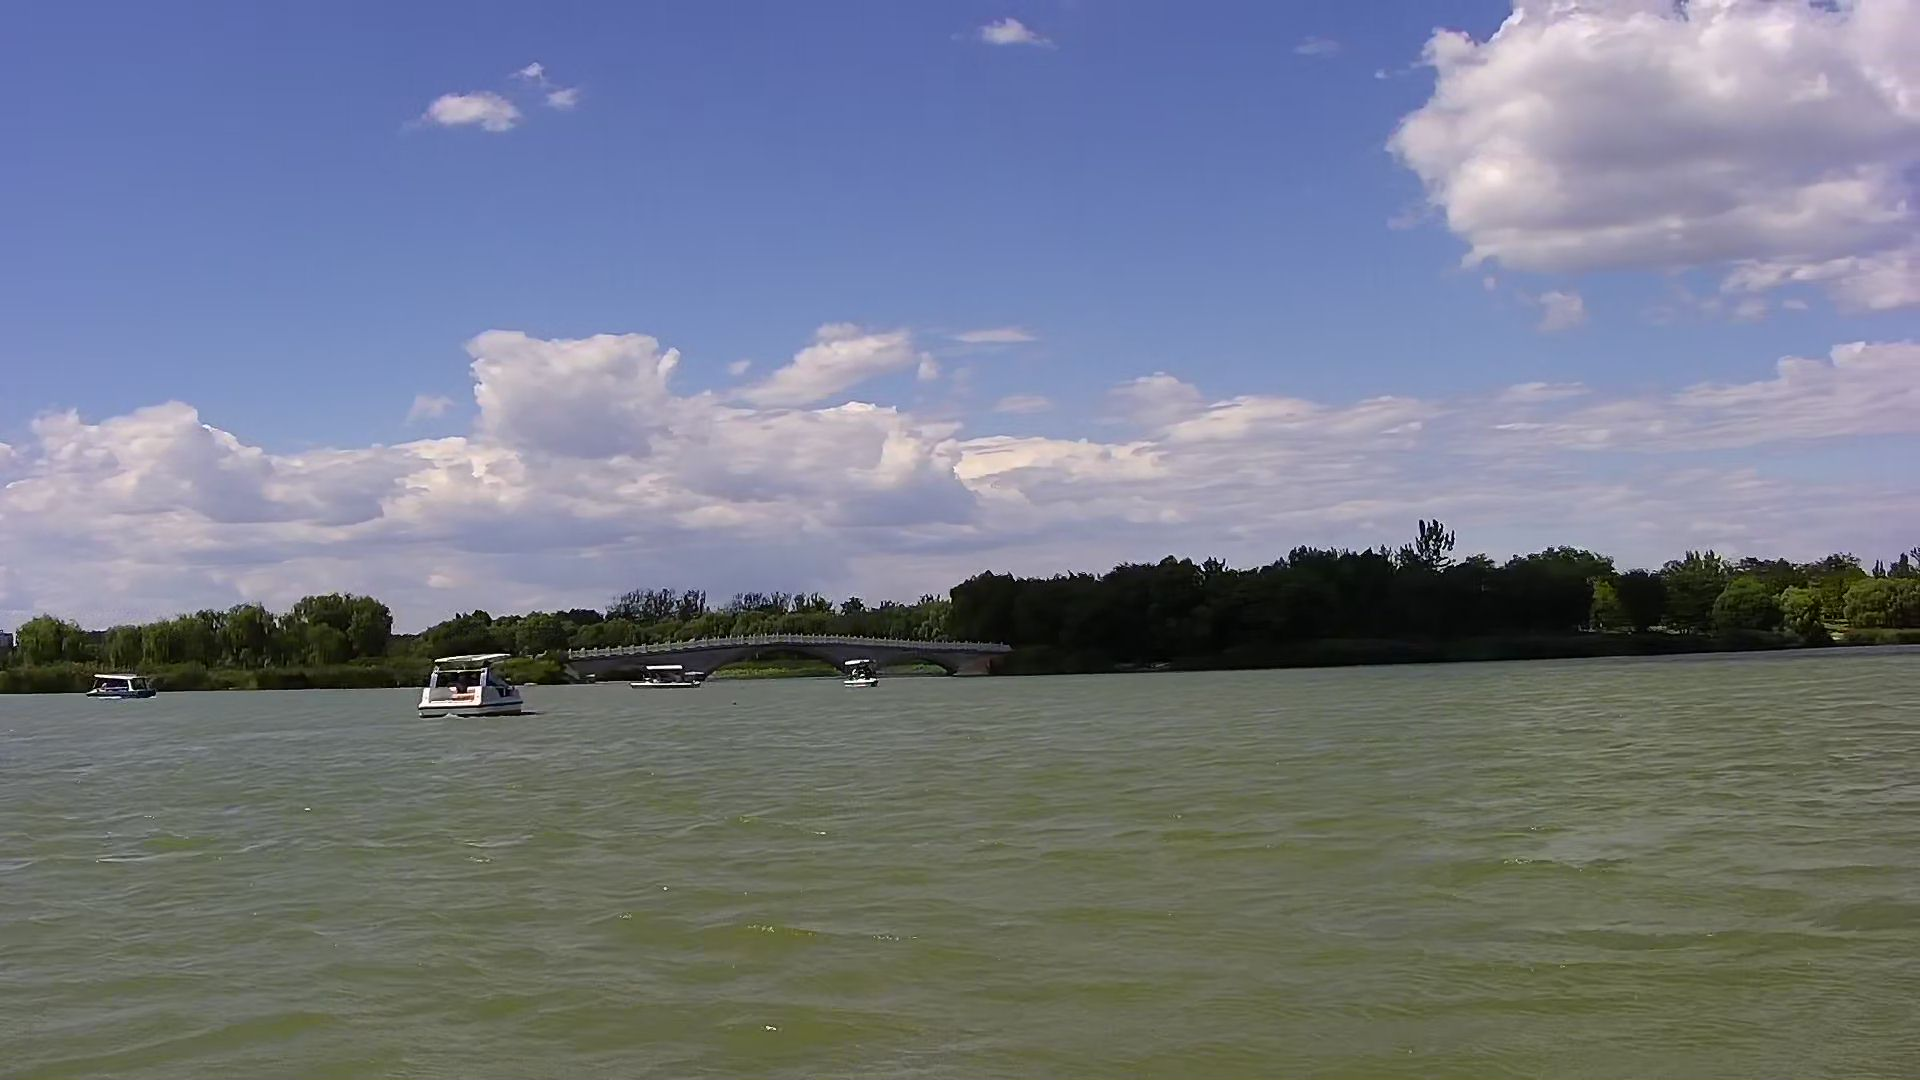boat: (409, 640, 531, 720), (637, 658, 709, 698), (82, 673, 158, 702)
bridge: (563, 628, 1009, 684)
